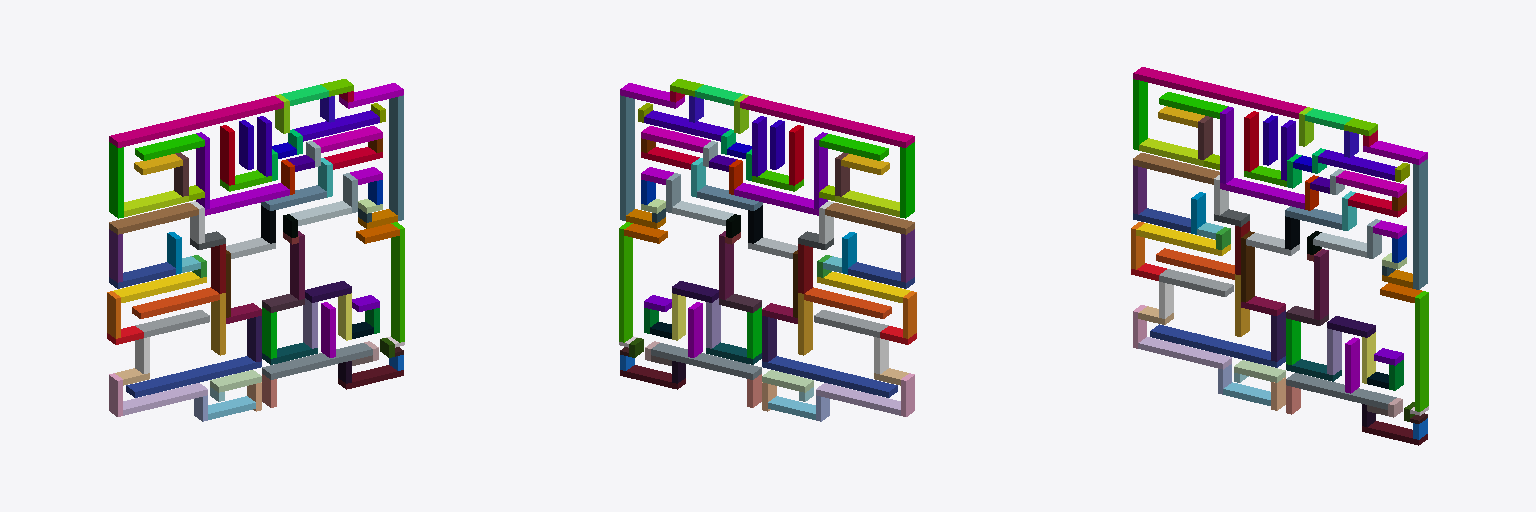
File: tinker.obj
3 views of the same model, side by side, from view 1: azimuth 30°, elevation 25°; view 2: azimuth 150°, elevation 25°; view 3: azimuth 330°, elevation 25° (orthographic).
Parts seen in each view (by area): view 1: obj_0; view 2: obj_0; view 3: obj_0.
Part boxes in pixels (left/top/right/bottom): obj_0: left=107, top=79, right=404, bottom=421; obj_0: left=619, top=79, right=916, bottom=421; obj_0: left=1131, top=67, right=1428, bottom=445.
Bounding box in the file's own units: 998 × 998 × 53.45.